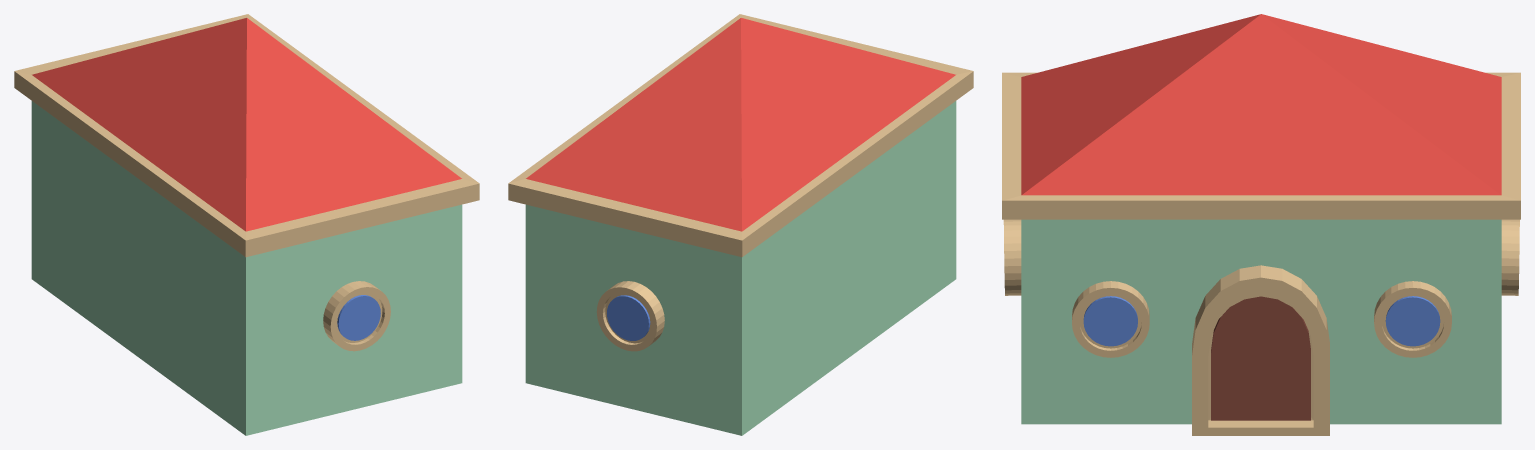
File: houseblockout.fbx
3 renders of one model, left to right at view 1: azimuth 30°, elevation 25°; view 2: azimuth 150°, elevation 25°; view 3: azimuth 270°, elevation 25°, orthographic. The views are drawn at different scales.
Parts seen in each view (by area): view 1: Cube; view 2: Cube; view 3: Cube.
Boxes of the visible parts, x1,y1,x2,y2 form: Cube: (14,14,479,435); Cube: (508,14,973,435); Cube: (1002,14,1520,435).
Bounding box in the file's own units: 442 × 535 × 716.
